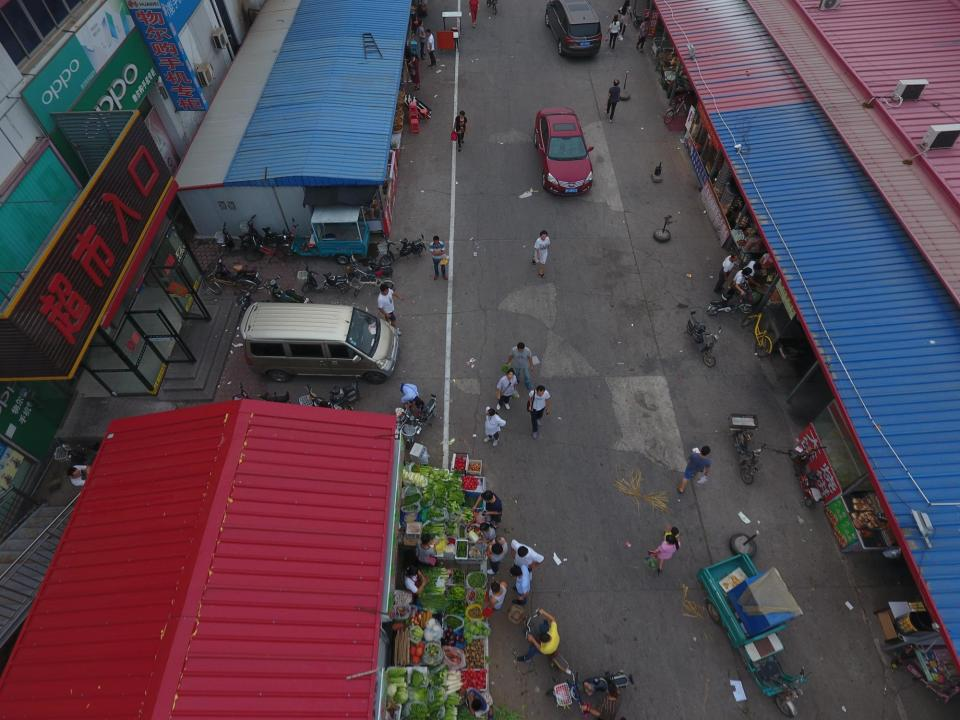car: (535, 108, 596, 195), (545, 1, 603, 60)
van: (243, 300, 398, 382)
